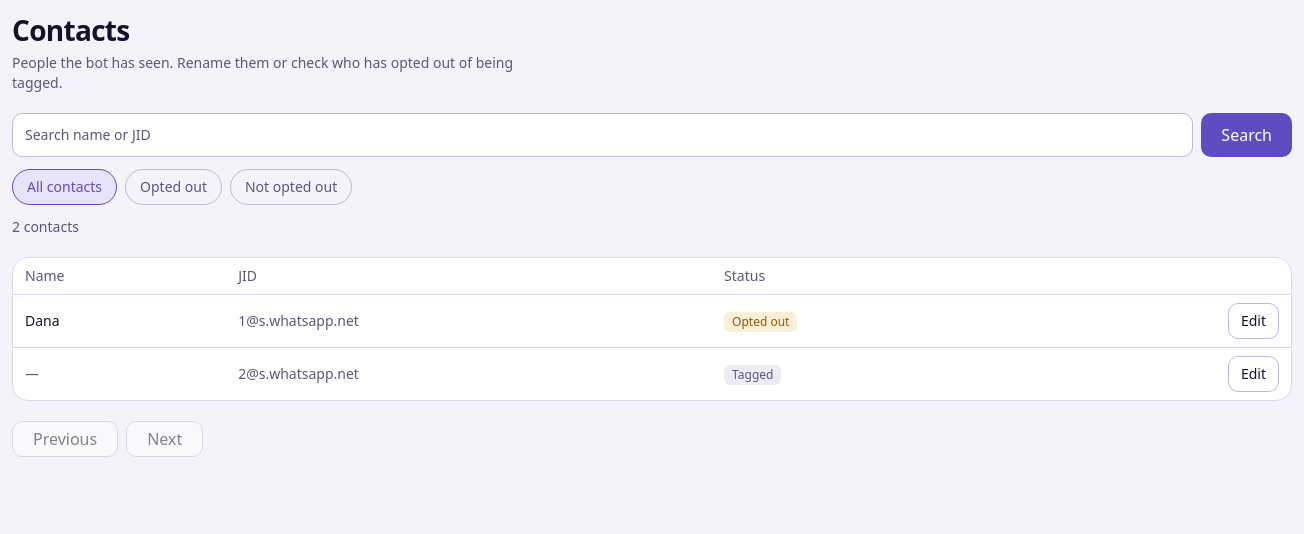
Test: Contacts page › keeps the editor, typed name and error when saving fails, and reloads
This screenshot has width=1304, height=534.
Click the button with aria-label "Edit 2@s.whatsapp.net". click: (1253,374)
box: [1228,356,1279,392]
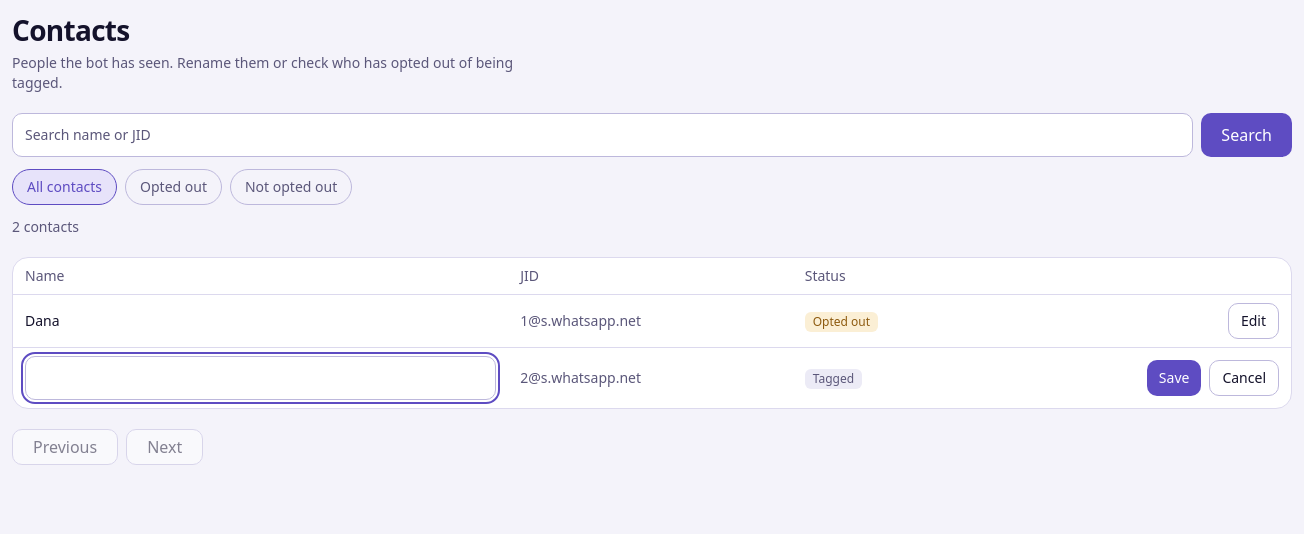
Type "Eli" into the field named "Name for 2@s.whatsapp.net". click: (261,378)
box: [25,356,496,400]
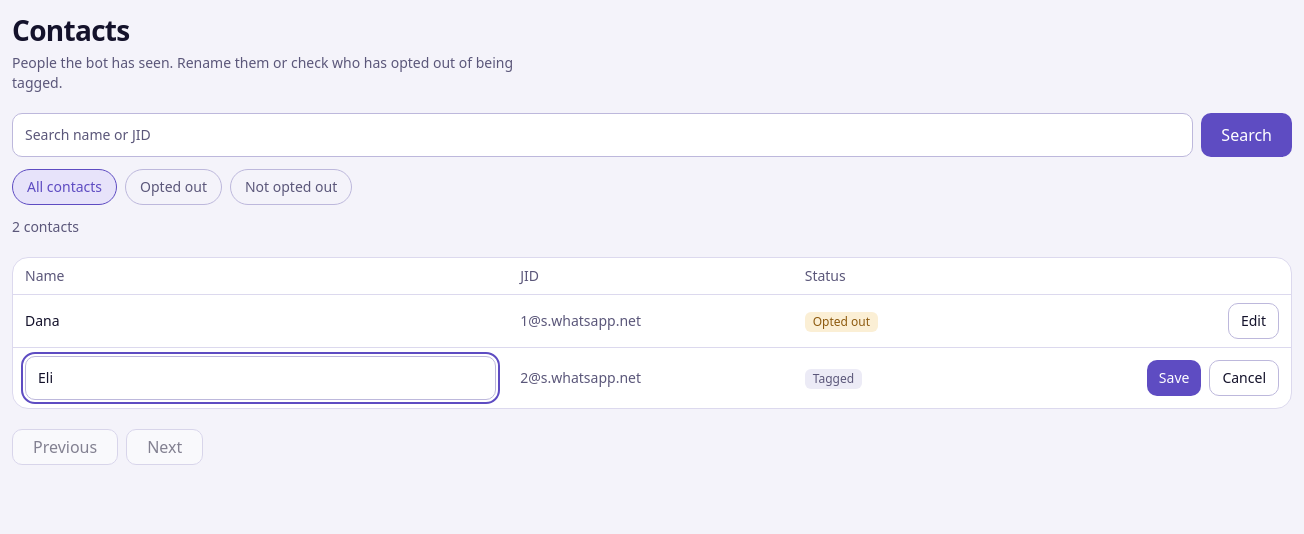
Click the button "Save". click: (1174,378)
box: [1147,360,1201,396]
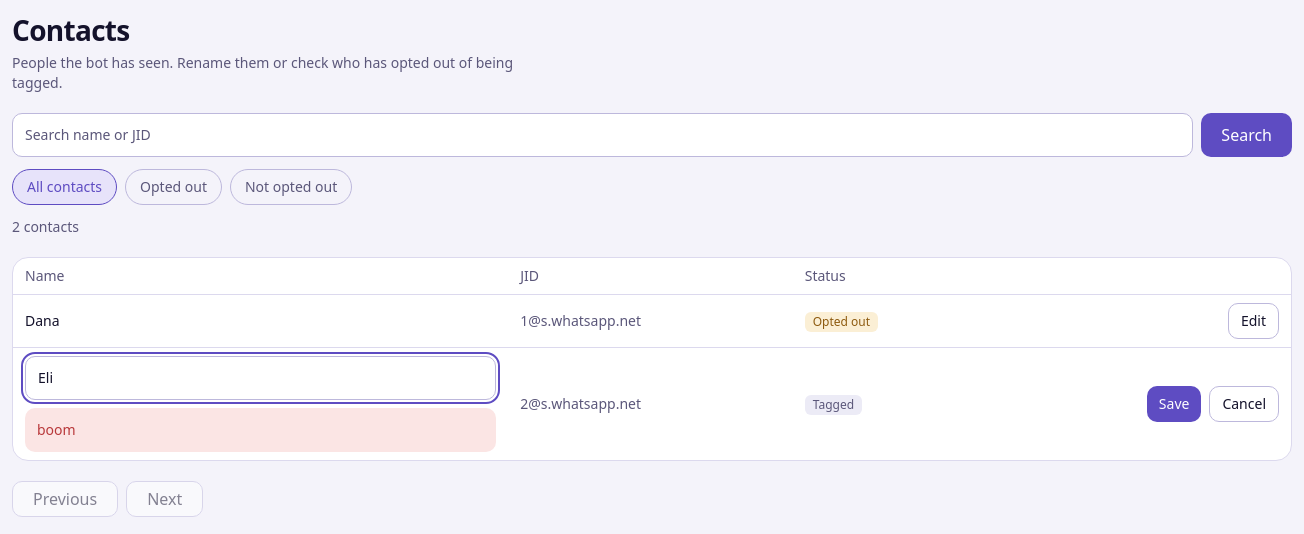
Expected: the button "Save" is enabled, [1147,386,1201,422]
Now the message reads "boom", box [37,420,76,439]
Click the button "Cancel". click: (1244,404)
box: [1209,386,1279,422]
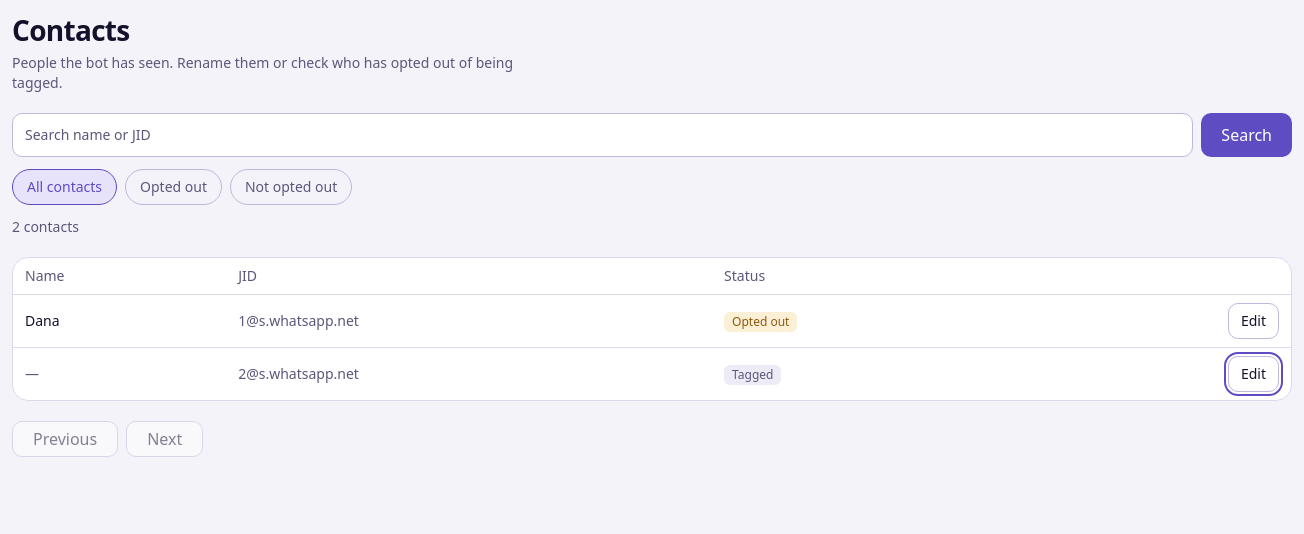
Now the message "boom" is gone
